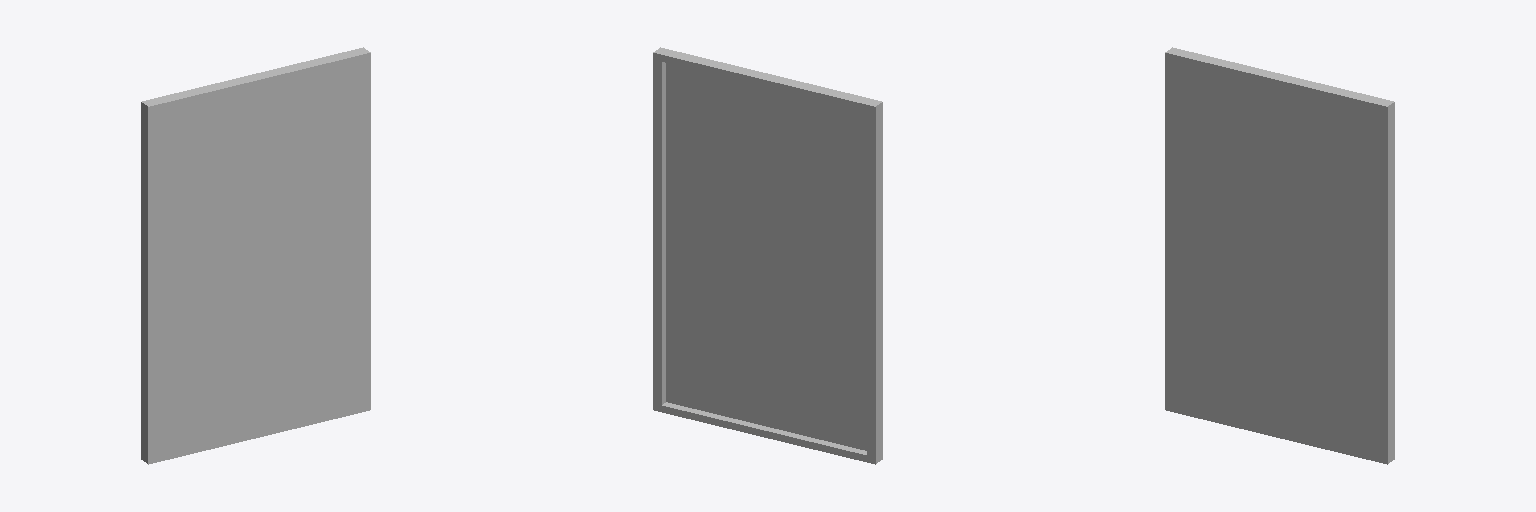
Rendered from mirror_4.obj.
3 renders of one model, left to right at view 1: azimuth 30°, elevation 25°; view 2: azimuth 150°, elevation 25°; view 3: azimuth 330°, elevation 25°, orthographic.
Visible parts, largest first — view 1: frame_4; view 2: mirror, frame_4; view 3: frame_4.
Boxes of the visible parts, box(x1,y1,x2,y2) form: frame_4: box(141, 47, 370, 464); mirror: box(666, 63, 866, 450); frame_4: box(653, 47, 882, 464); frame_4: box(1165, 47, 1394, 464).
Size of the model in its own units: 0.6836 by 1.05 by 0.0386.